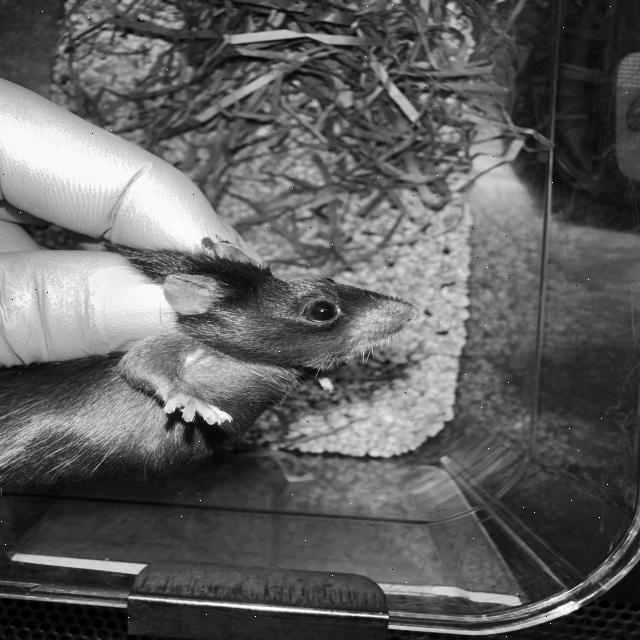Face: (162, 241, 421, 374)
